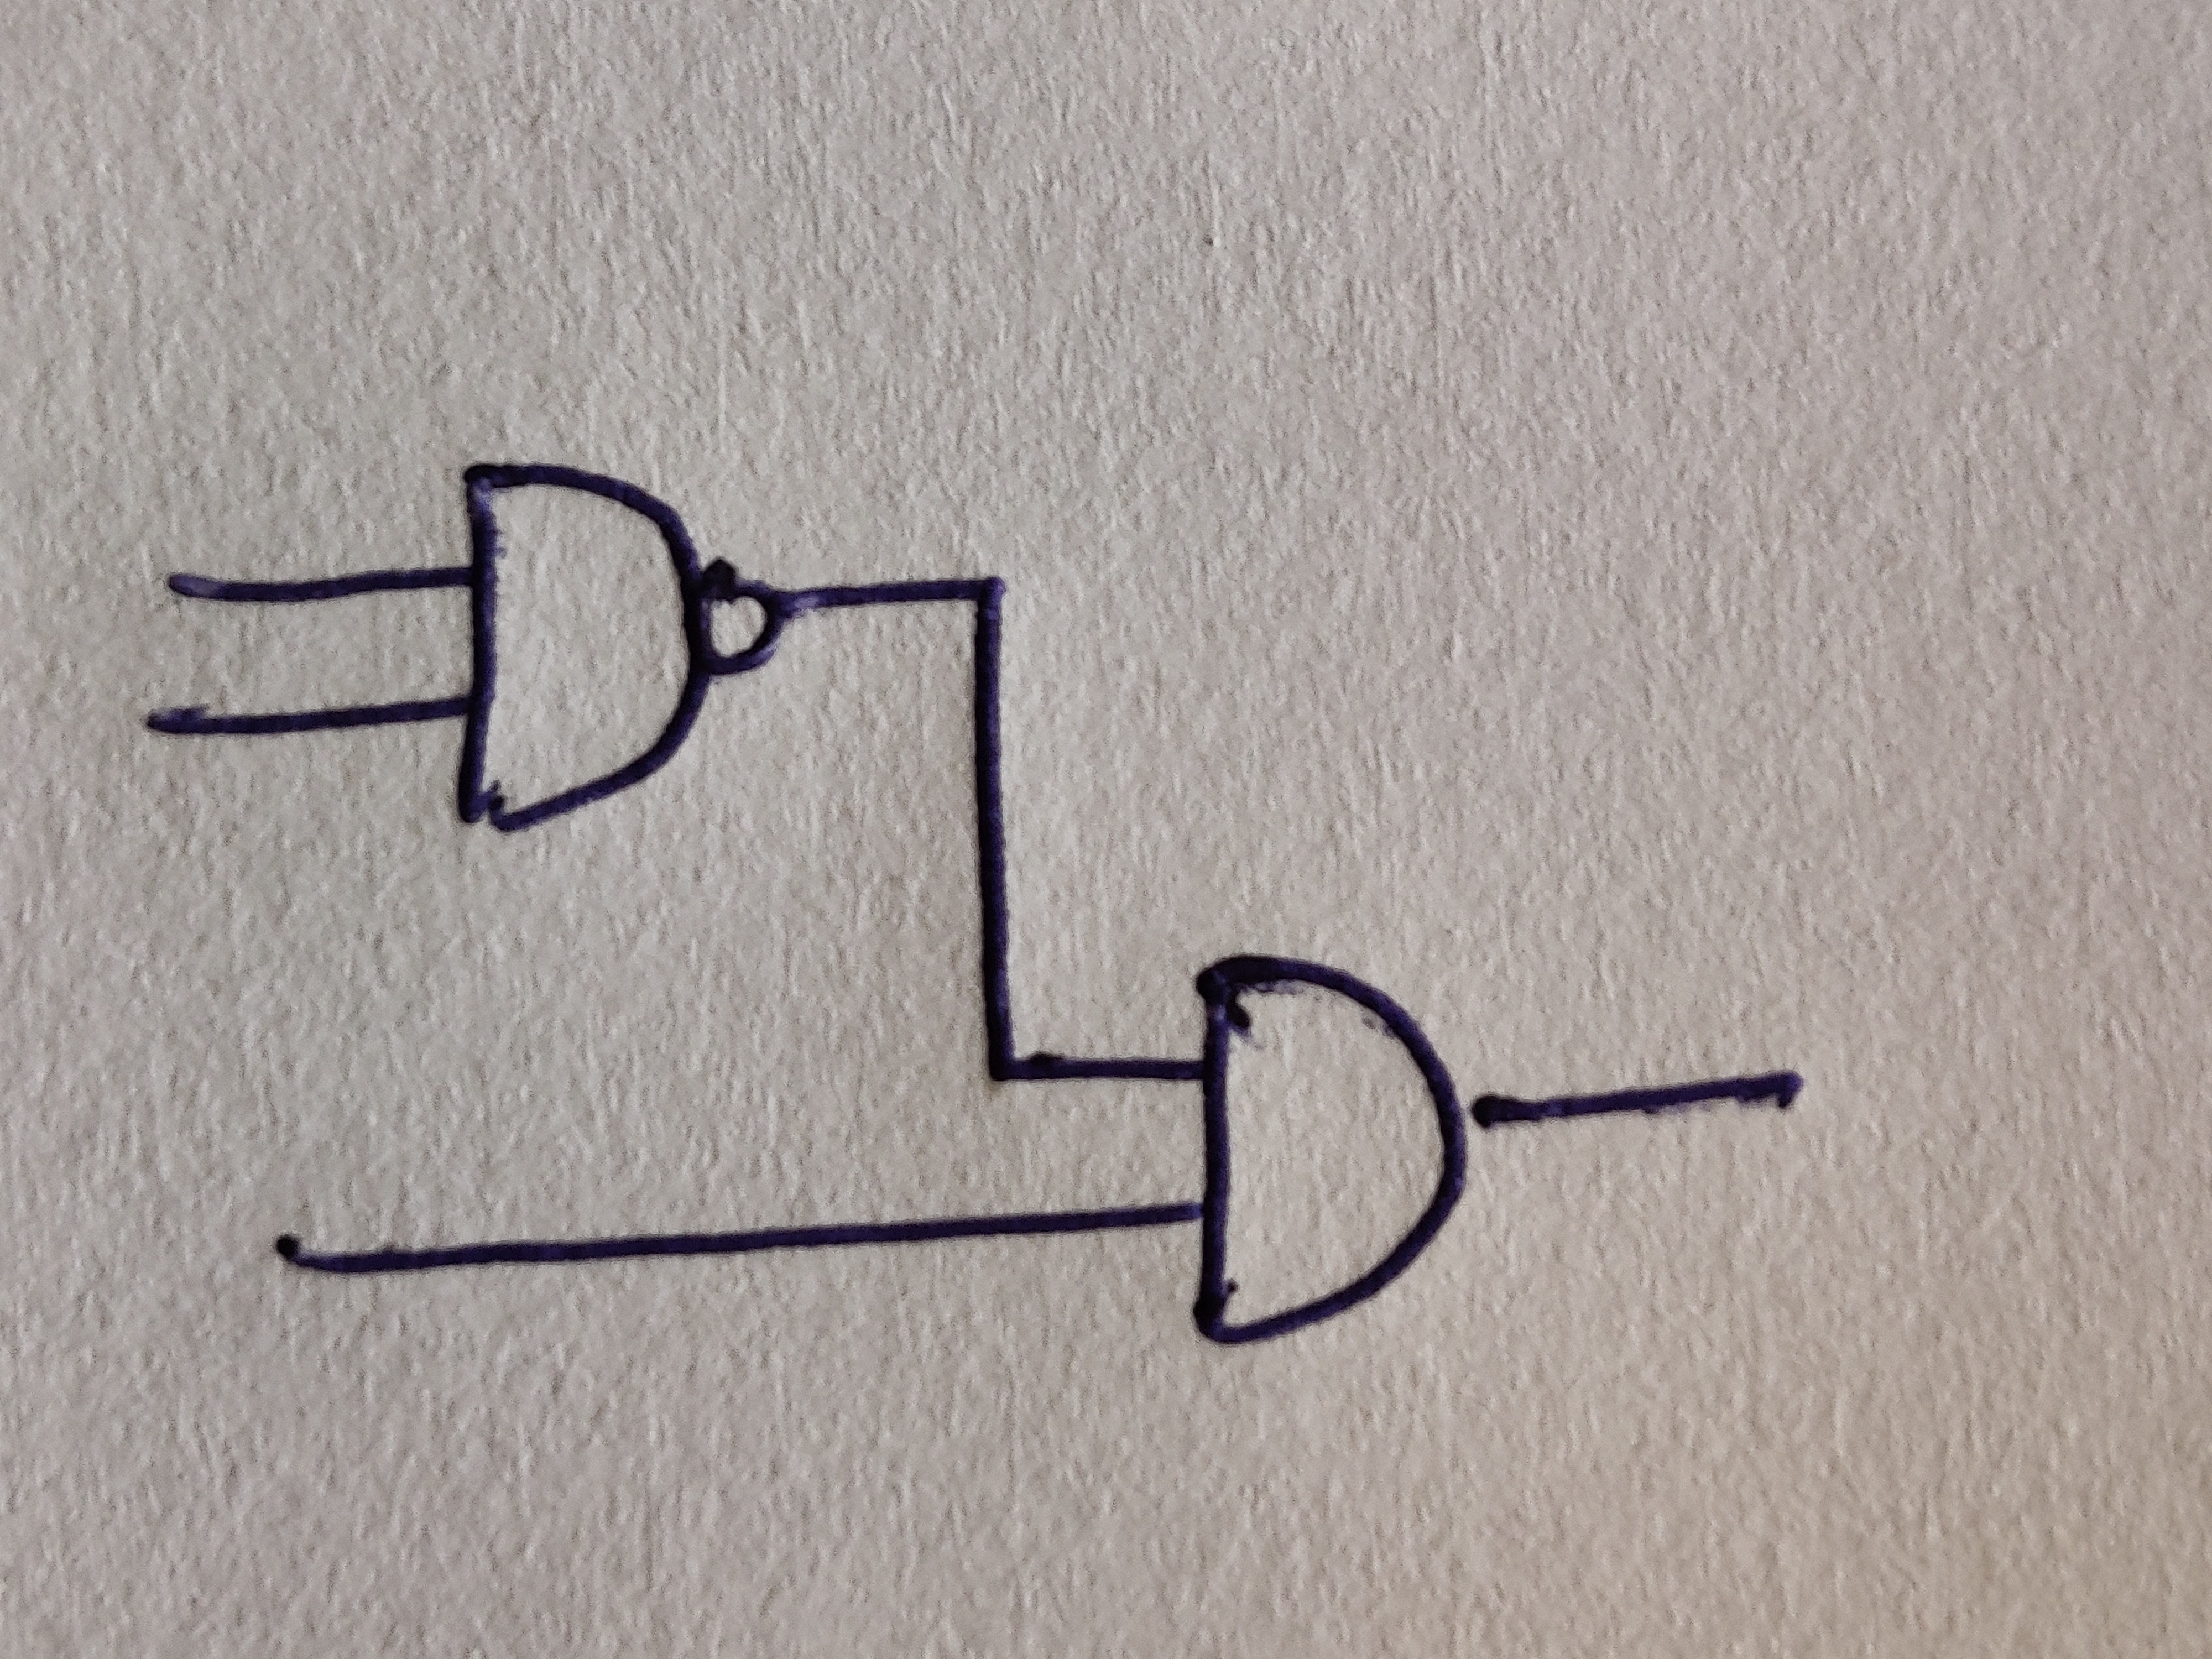and: (1193, 951, 1465, 1344), (460, 464, 702, 833)
not: (702, 556, 784, 674)
